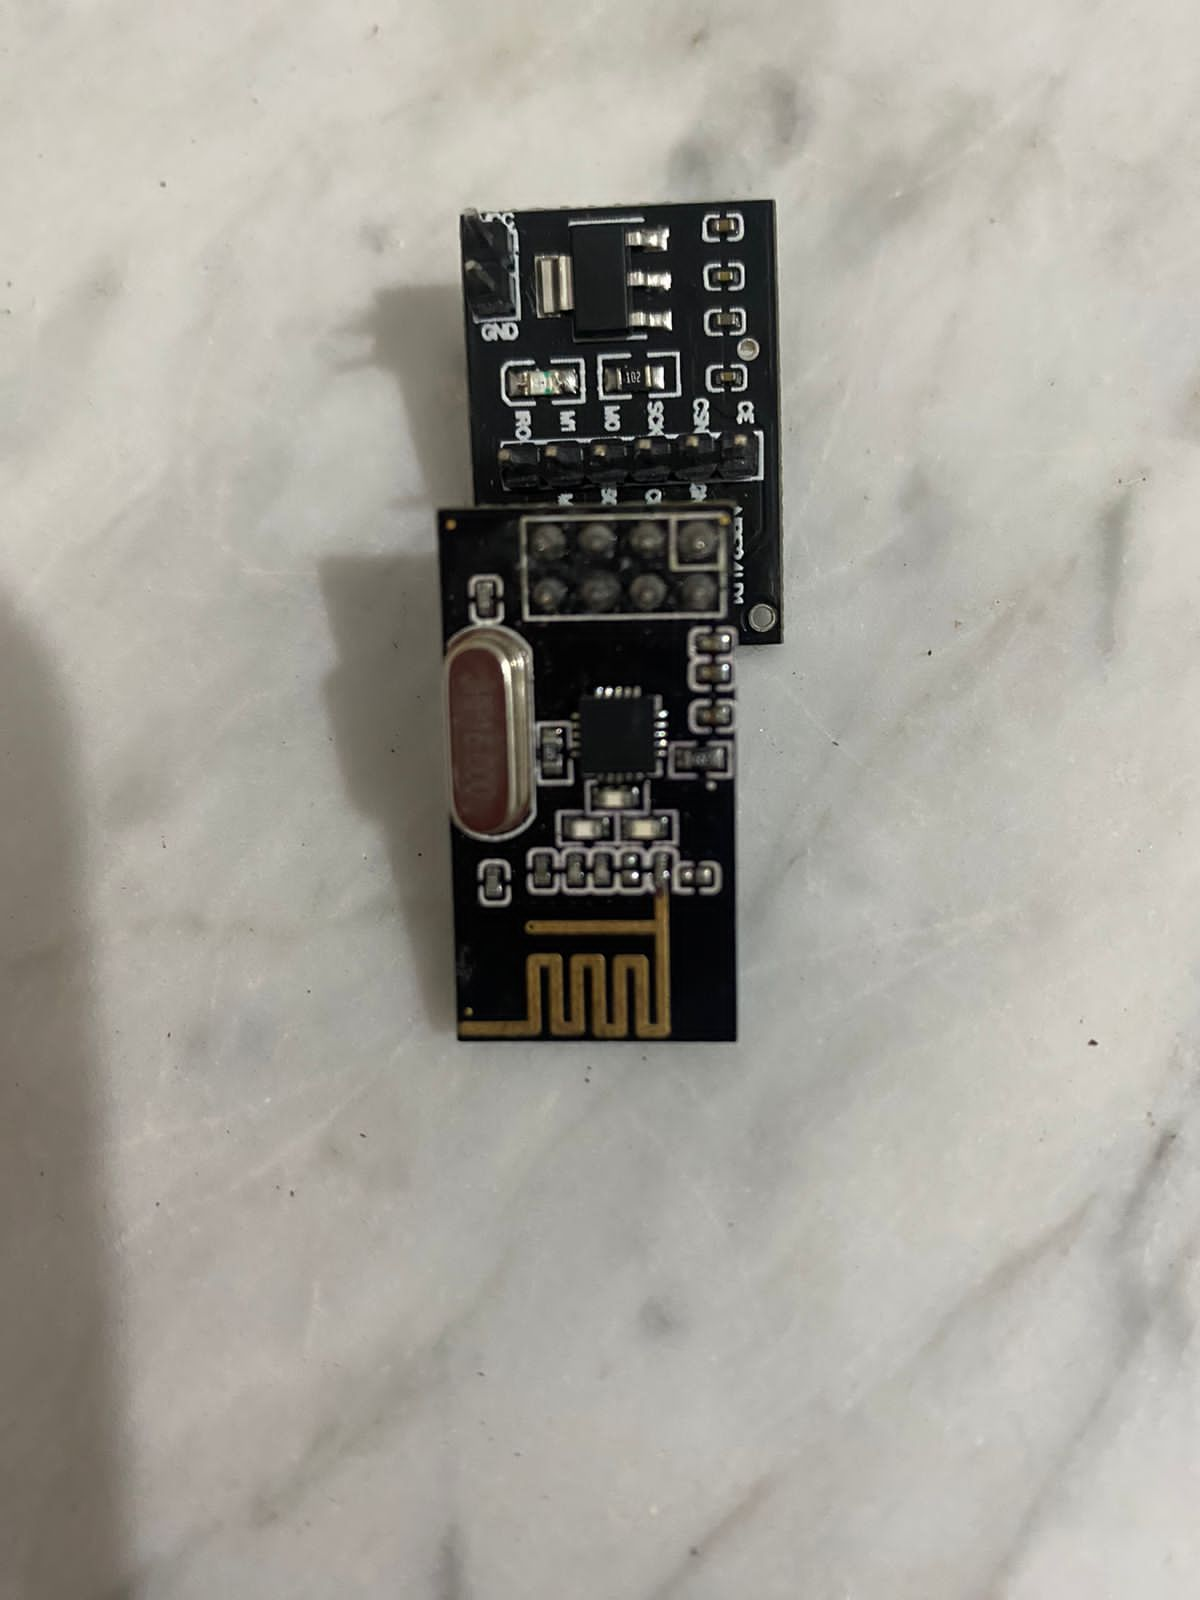RF-module: (420, 176, 818, 1068)
